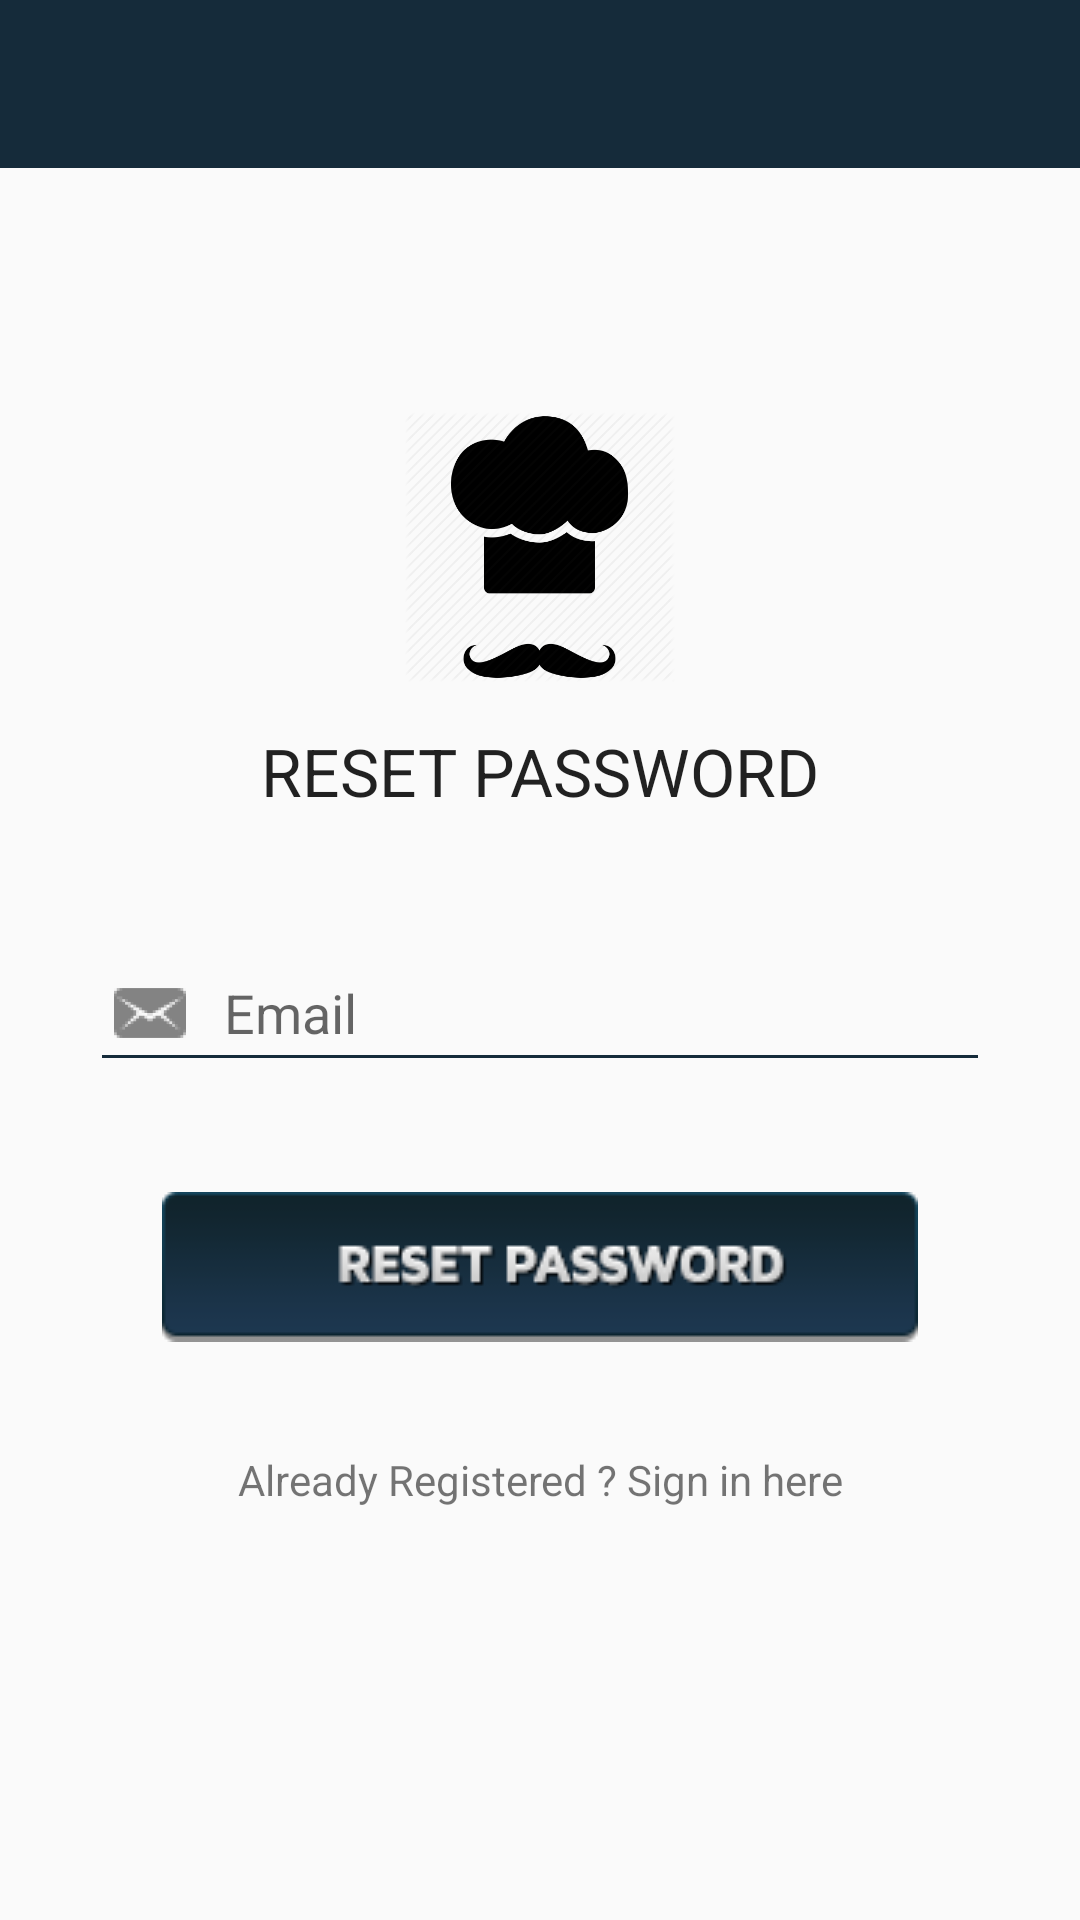

Icons on this 1080 × 1920 Android screen, each with the point to tap as [x,y]:
chef cook: [539,547]
